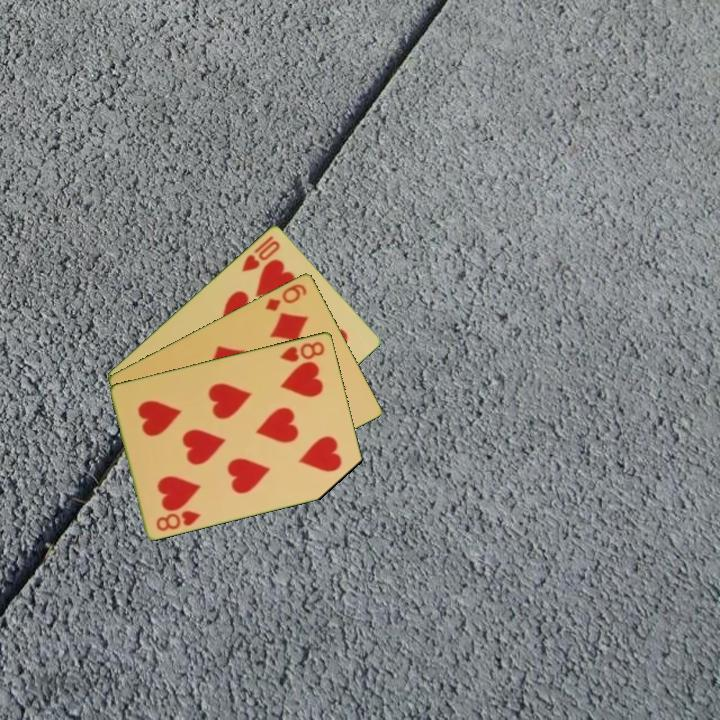10h: (238, 232, 283, 275)
6d: (261, 280, 310, 314)
8h: (277, 337, 328, 365), (153, 506, 203, 534)
